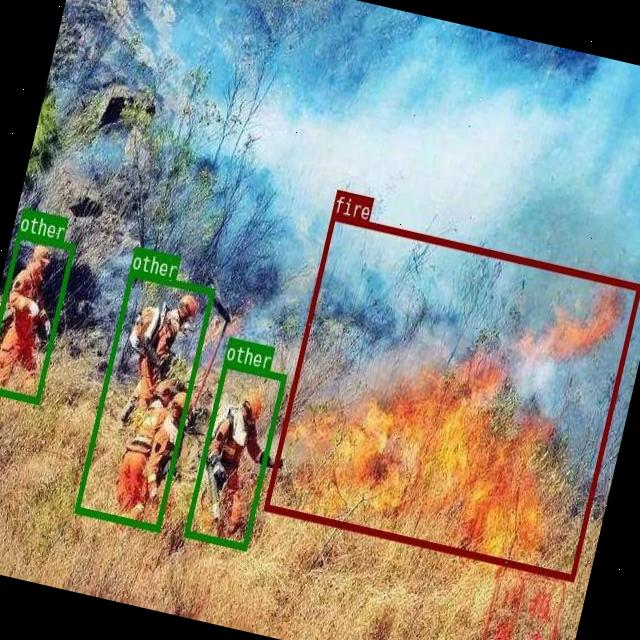fire: (262, 211, 640, 579)
